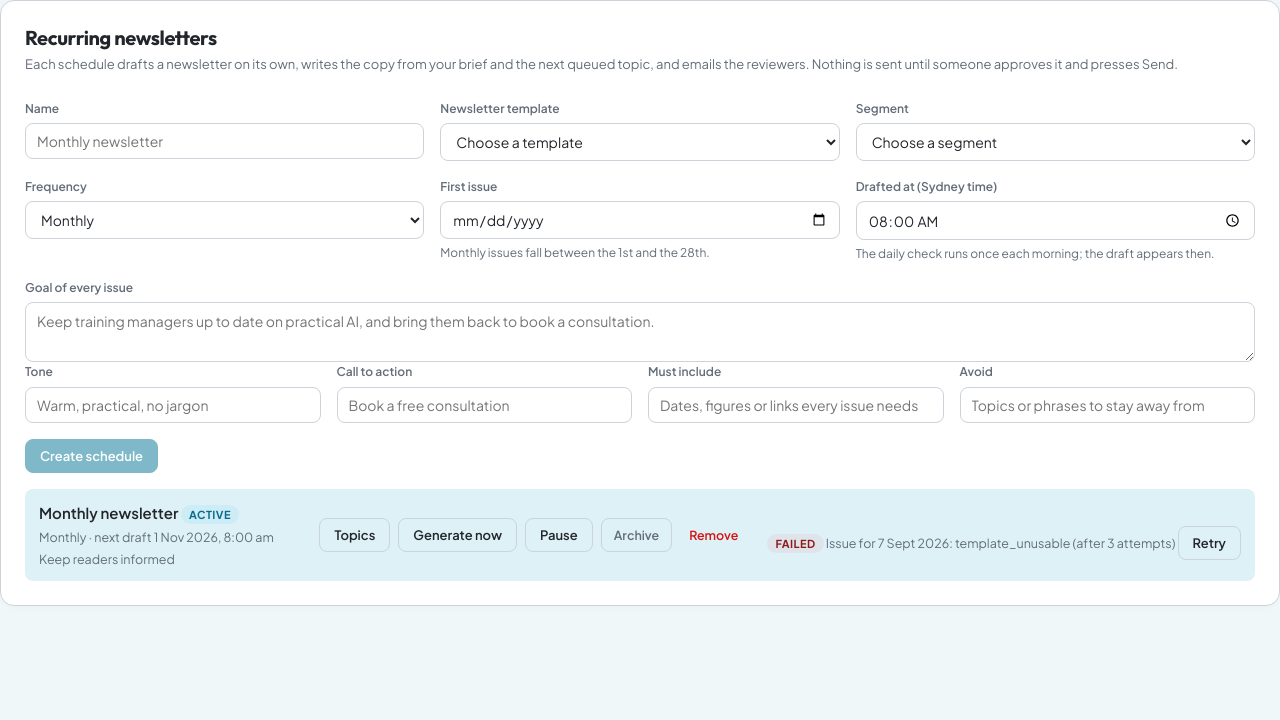
Test: NewsletterSchedules — occurrences that need attention (H12) › retries an issue and reports {"status":"needs_attention"}
Click the button with test id "retry-occurrence-o1": (1209, 543) x1=1178 y1=526 x2=1241 y2=560
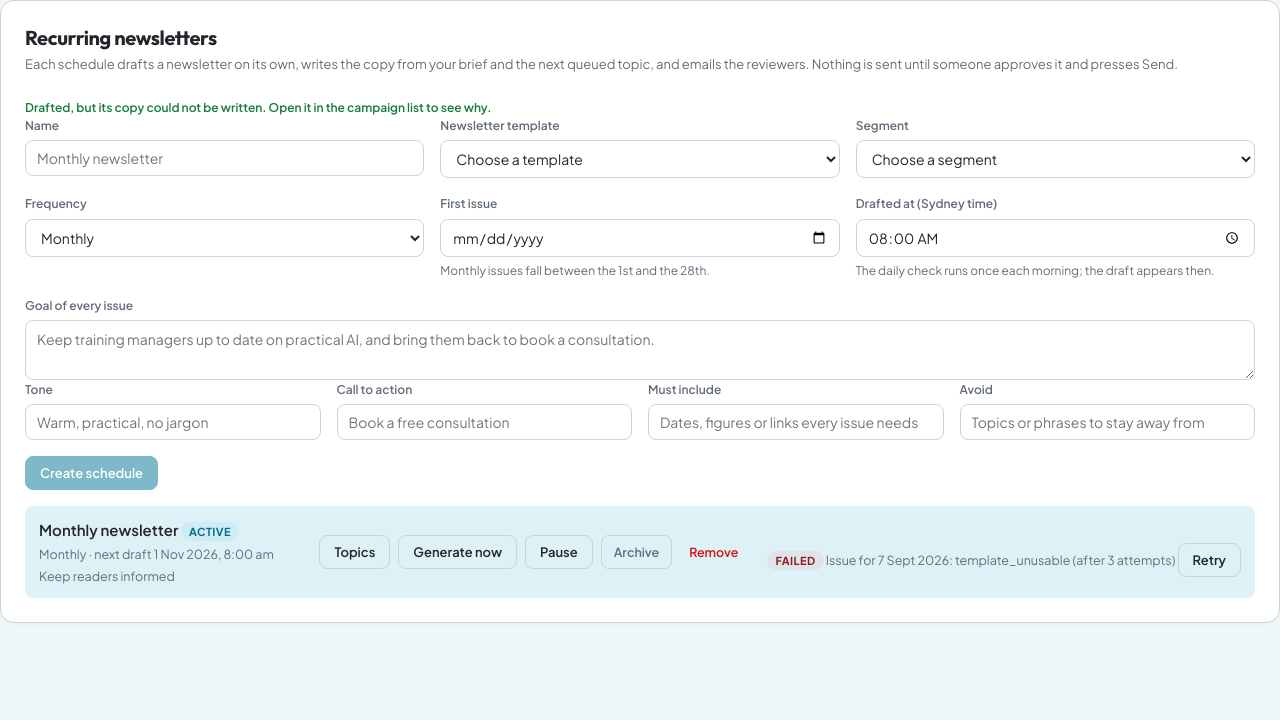
Check: the text "could not be written" is shown, box x1=25 y1=100 x2=491 y2=115
